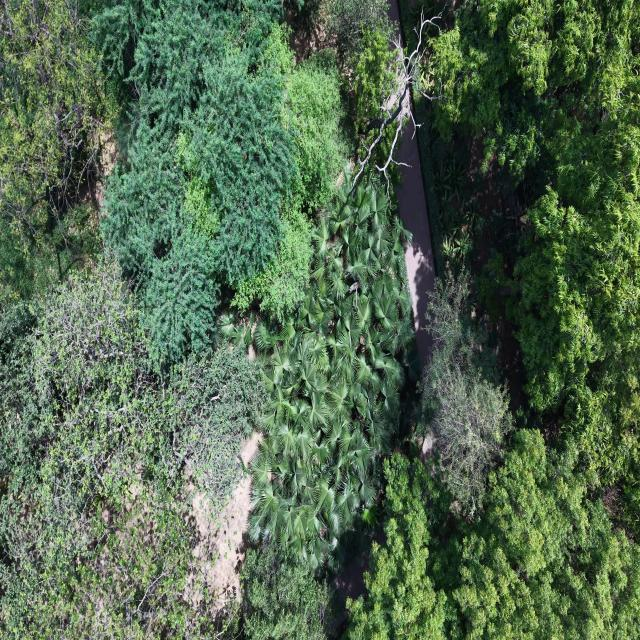DRY_AREA: (396, 124, 435, 365), (396, 125, 435, 365), (396, 125, 435, 364)
VEGETATION_TREE: (0, 0, 639, 639), (0, 2, 354, 637), (350, 3, 639, 638), (430, 2, 639, 522), (0, 260, 265, 638), (102, 3, 349, 363), (0, 264, 189, 637), (102, 2, 296, 363), (250, 171, 415, 567), (350, 430, 639, 639), (514, 128, 639, 483), (433, 430, 639, 638), (431, 0, 637, 183), (0, 0, 117, 304), (232, 27, 350, 321), (0, 0, 113, 247), (176, 52, 295, 285), (418, 273, 511, 517), (328, 0, 431, 195), (348, 454, 446, 639), (352, 12, 442, 195), (169, 344, 267, 512), (286, 51, 352, 211), (0, 203, 101, 305), (143, 229, 219, 363), (231, 206, 312, 321), (242, 545, 337, 639), (348, 22, 397, 157), (412, 93, 446, 274), (352, 29, 394, 131), (329, 0, 390, 59)
